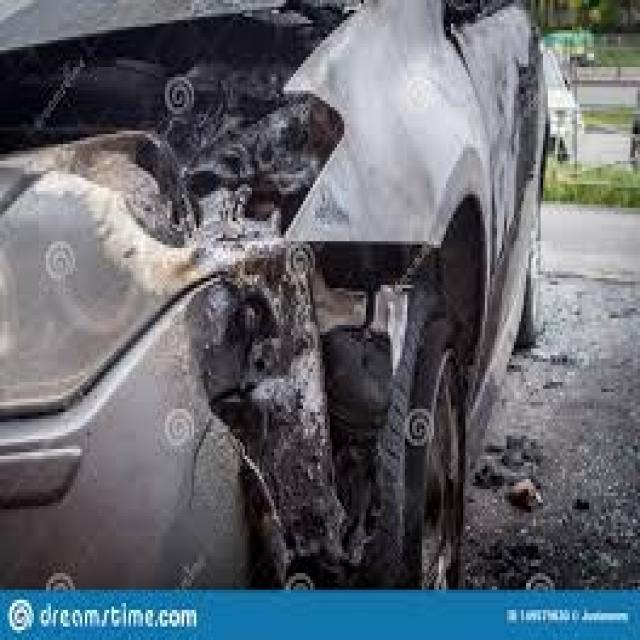damaged-head-light: (12, 96, 342, 264)
